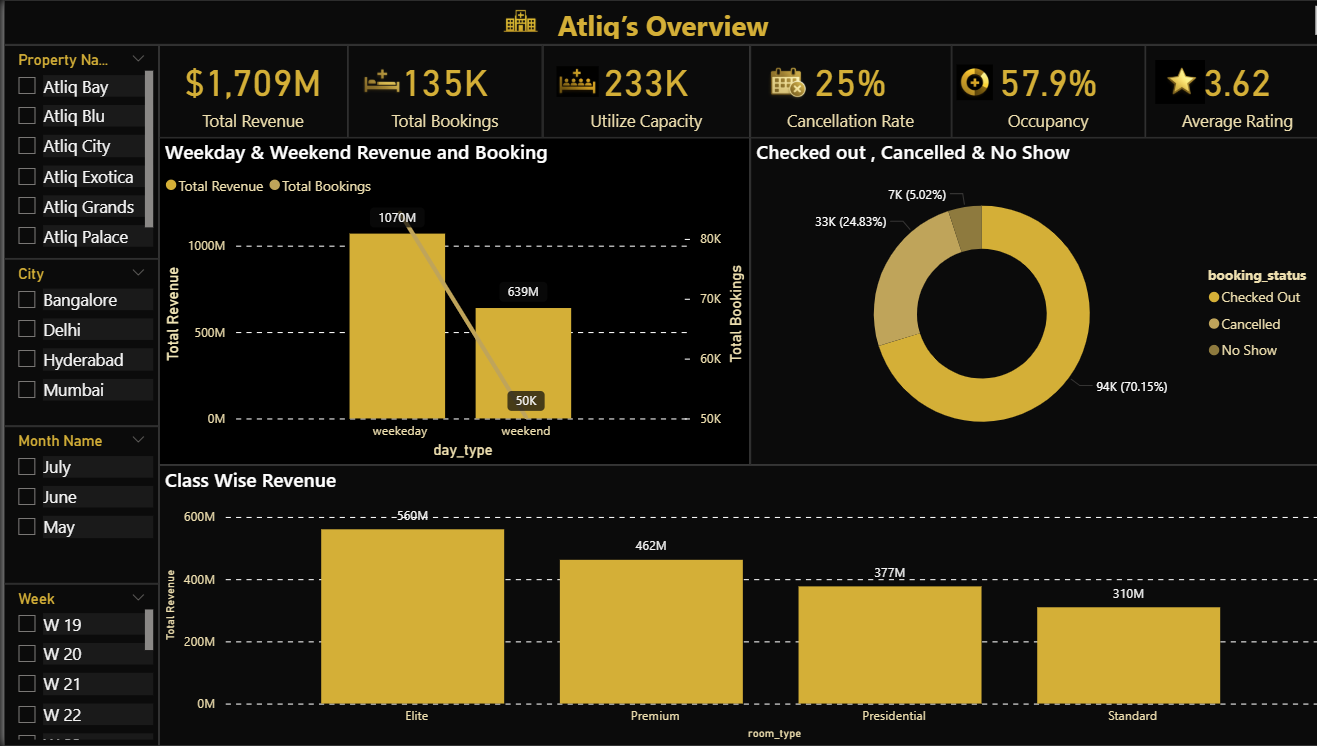

The page's visual inventory and layout, read from the dashboard file:
{"tool":"powerbi","page":{"name":"  Dashboard 1","canvas":[1366,720],"ordinal":3},"visuals":[{"type":"textbox","box":[0,0,1280,43.4],"z":0},{"type":"slicer","fields":{"Values":["dim_hotels.property_name"]},"box":[0,43.4,149.6,206.3],"z":1000},{"type":"slicer","fields":{"Values":["dim_hotels.city"]},"box":[0,249.7,149.6,161.7],"z":2000},{"type":"slicer","fields":{"Values":["dim_date.Month Name"]},"box":[0,411.4,149.6,152],"z":3000},{"type":"slicer","fields":{"Values":["dim_date.week no"]},"box":[0,563.4,149.6,156.8],"z":4000},{"type":"card","fields":{"Values":["fact_bookings.Revenue"]},"box":[149.6,43.4,182.2,89.3],"z":5000},{"type":"card","fields":{"Values":["fact_bookings.Total Bookings"]},"box":[331.8,43.4,188.2,89.3],"z":6000},{"type":"card","fields":{"Values":["fact_aggregated_bookings.Total Capacity"]},"box":[520,43.4,200.3,89.3],"z":7000},{"type":"card","fields":{"Values":["fact_bookings.Cancellation %"]},"box":[720.2,43.4,194.2,89.3],"z":8000},{"type":"card","fields":{"Values":["fact_aggregated_bookings.Occupancy %"]},"box":[914.5,43.4,187,89.3],"z":9000},{"type":"card","fields":{"Values":["fact_aggregated_bookings.Average Rating"]},"box":[1101.5,43.4,178.6,89.3],"z":10000},{"type":"lineClusteredColumnComboChart","title":"Weekday & Weekend Revenue and Booking","fields":{"Category":["dim_date.day_type"],"Y":["fact_bookings.Total Revenue"],"Y2":["fact_bookings.Total Bookings"]},"box":[149.6,132.7,570.6,316.1],"z":11000},{"type":"donutChart","title":"Checked out , Cancelled & No Show","fields":{"Category":["fact_bookings.booking_status"],"Y":["fact_bookings.Total Bookings"]},"box":[720.2,132.7,559.8,316.1],"z":12000},{"type":"columnChart","title":"Class Wise Revenue","fields":{"Category":["dim_rooms.room_type"],"Y":["fact_bookings.Total Revenue"]},"box":[149.6,448.8,1130.4,271.4],"z":13000},{"type":"image","box":[452.4,0,90.5,43.4],"z":14000},{"type":"image","box":[728.7,54.3,51.9,50.7],"z":15000},{"type":"image","box":[340.2,53.1,49.5,51.9],"z":16000},{"type":"image","box":[1111.1,57.9,48.3,42.2],"z":17000},{"type":"image","box":[528.4,54.3,50.7,49.5],"z":18000},{"type":"image","box":[914.5,54.3,44.6,50.7],"z":19000}]}

Visuals, with their boxes on the page's 1366x720 design canvas (x1, y1, x2, y2). These are canvas units, not pixel positions in the 1317x746 screenshot, which may show the page scaled, cropped or inside an application window:
textbox: rect(0, 0, 1280, 43)
slicer - dim_hotels.property_name: rect(0, 43, 150, 250)
slicer - dim_hotels.city: rect(0, 250, 150, 411)
slicer - dim_date.Month Name: rect(0, 411, 150, 563)
slicer - dim_date.week no: rect(0, 563, 150, 720)
card - fact_bookings.Revenue: rect(150, 43, 332, 133)
card - fact_bookings.Total Bookings: rect(332, 43, 520, 133)
card - fact_aggregated_bookings.Total Capacity: rect(520, 43, 720, 133)
card - fact_bookings.Cancellation %: rect(720, 43, 914, 133)
card - fact_aggregated_bookings.Occupancy %: rect(914, 43, 1102, 133)
card - fact_aggregated_bookings.Average Rating: rect(1102, 43, 1280, 133)
"Weekday & Weekend Revenue and Booking" lineClusteredColumnComboChart: rect(150, 133, 720, 449)
"Checked out , Cancelled & No Show" donutChart: rect(720, 133, 1280, 449)
"Class Wise Revenue" columnChart: rect(150, 449, 1280, 720)
image: rect(452, 0, 543, 43)
image: rect(729, 54, 781, 105)
image: rect(340, 53, 390, 105)
image: rect(1111, 58, 1159, 100)
image: rect(528, 54, 579, 104)
image: rect(914, 54, 959, 105)
